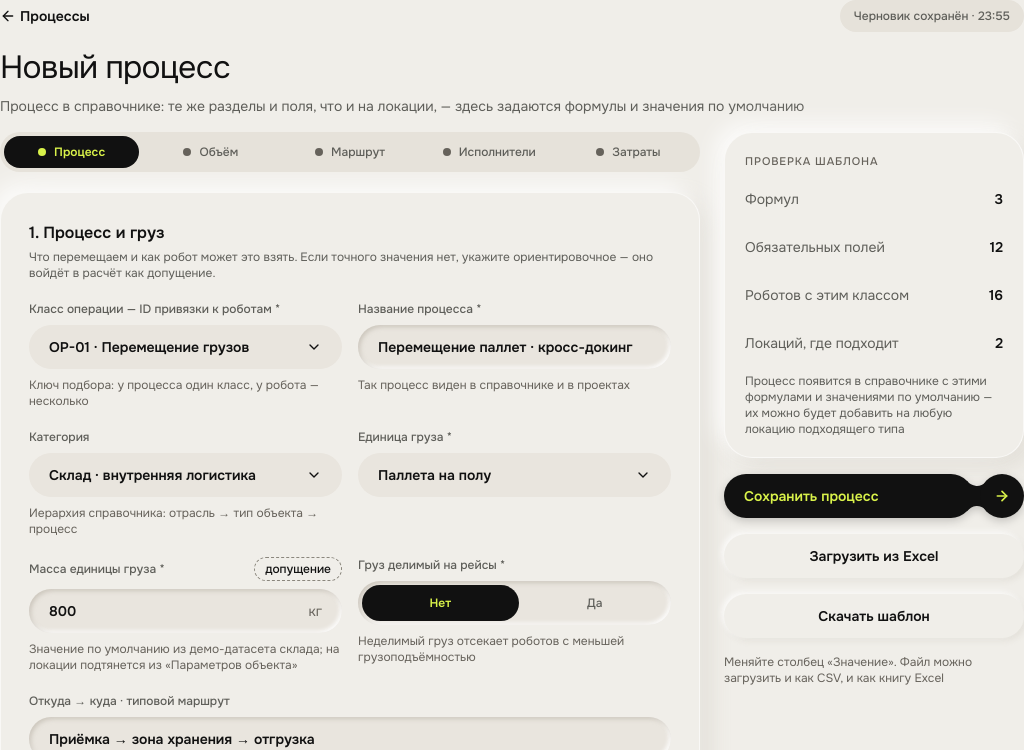
Test: ProcessNewPage (экран 09а) › marks invalid fields and does not save
The width and height of the screenshot is (1024, 750).
Clear the field labelled "Название процесса *". click: (514, 347)
box: [378,337,651,357]
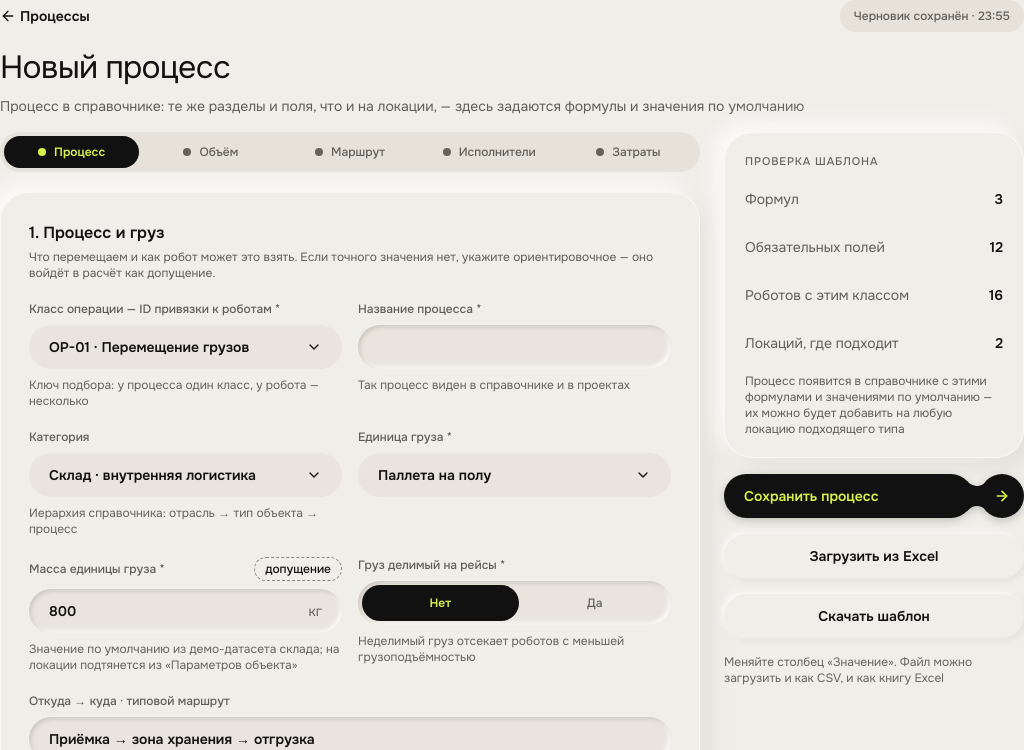
Click the button "Сохранить процесс". click: (874, 496)
box: [724,474,1023,518]
(page scrolled)
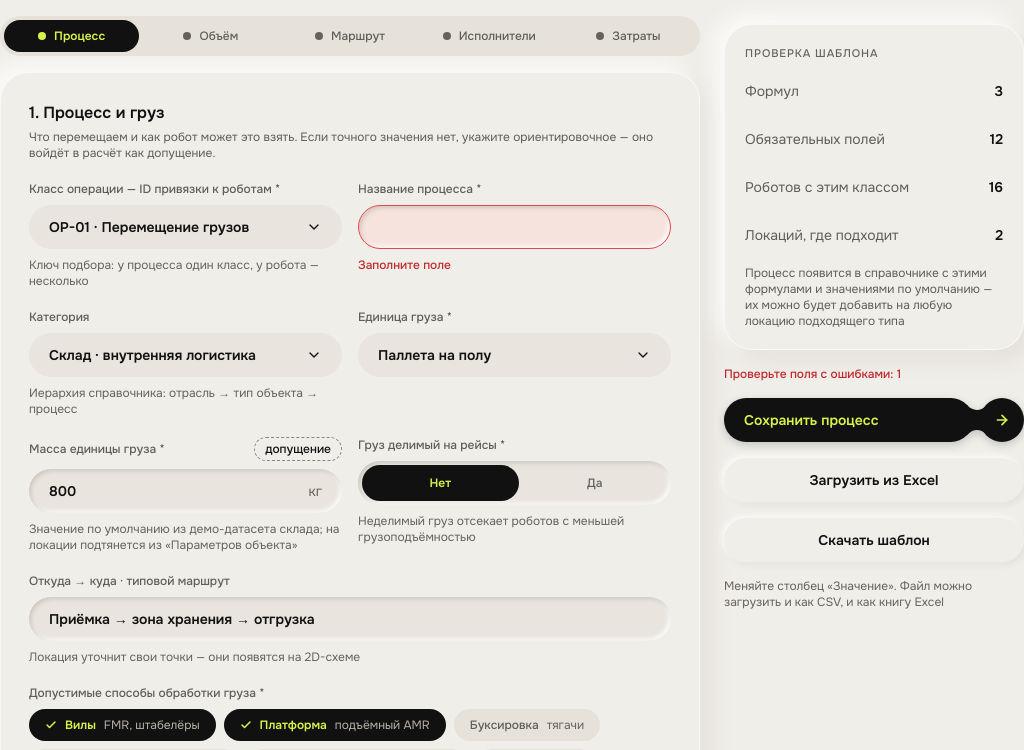
Now the message reads "Проверьте поля с ошибками: 1", box [724,366,901,382]
